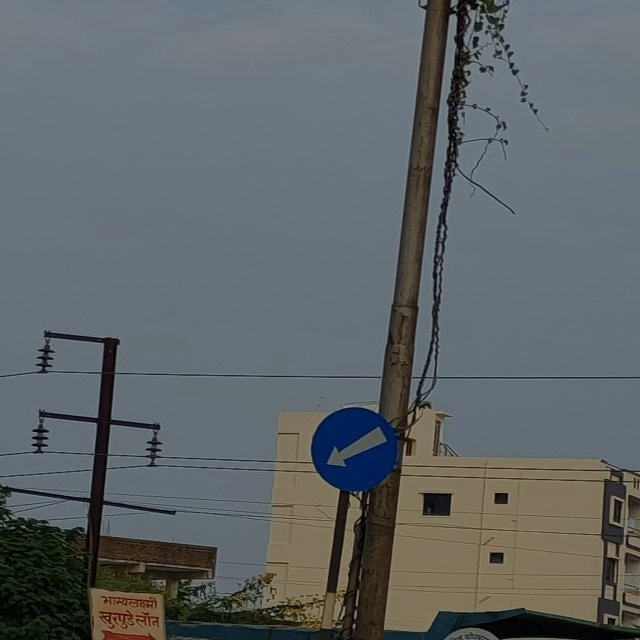R.301e: (305, 403, 409, 497)
